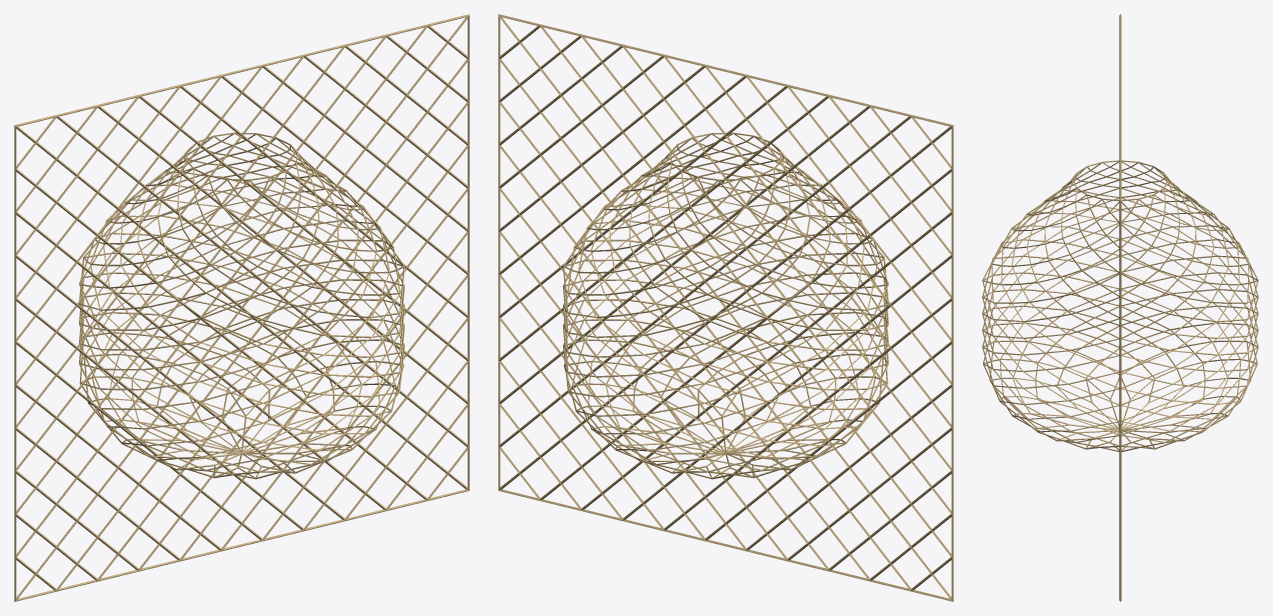
The model's file is visnet.fbx.
The picture shows the model from 3 angles, left to right: view 1: azimuth 30°, elevation 25°; view 2: azimuth 150°, elevation 25°; view 3: azimuth 270°, elevation 25°; orthographic projection. The views are drawn at different scales.
Parts seen in each view (by area): view 1: Plane, Cylinder; view 2: Plane, Cylinder; view 3: Cylinder, Plane.
Part boxes in pixels (bbox=[...]): Plane: bbox=[14, 14, 469, 601]; Cylinder: bbox=[79, 132, 404, 479]; Plane: bbox=[498, 14, 953, 601]; Cylinder: bbox=[563, 132, 888, 479]; Cylinder: bbox=[982, 160, 1258, 451]; Plane: bbox=[1119, 14, 1121, 601].
Size of the model in its own units: 2.01 by 2.01 by 1.26.
